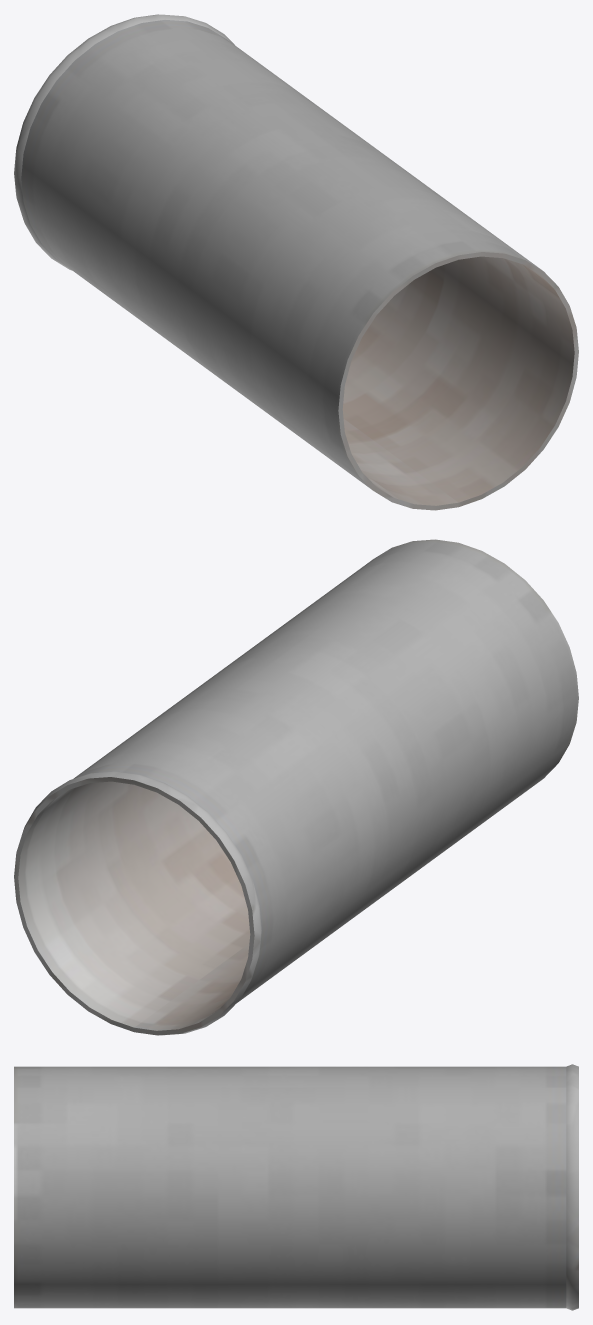
File: ductMed.fbx
3 views of the same model, one above another, from view 1: azimuth 30°, elevation 25°; view 2: azimuth 150°, elevation 25°; view 3: azimuth 270°, elevation 25° (orthographic). The views are drawn at different scales.
Visible parts, largest first — view 1: ductMed; view 2: ductMed; view 3: ductMed.
Part boxes in pixels (left/top/right/bottom): ductMed: left=14, top=14, right=578, bottom=510; ductMed: left=14, top=539, right=578, bottom=1035; ductMed: left=14, top=1064, right=578, bottom=1310.
Bounding box in the file's own units: 0.6247 × 0.2727 × 0.2729.
